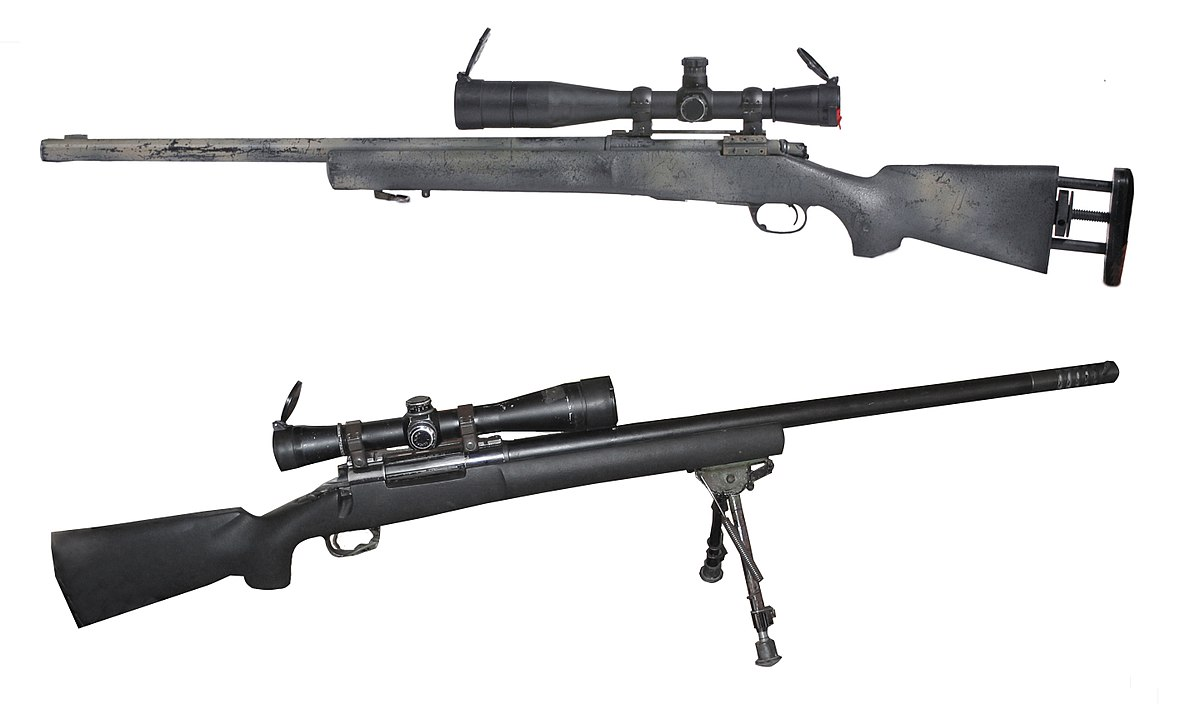Gun: (287, 358, 1099, 612), (274, 46, 1066, 289)
